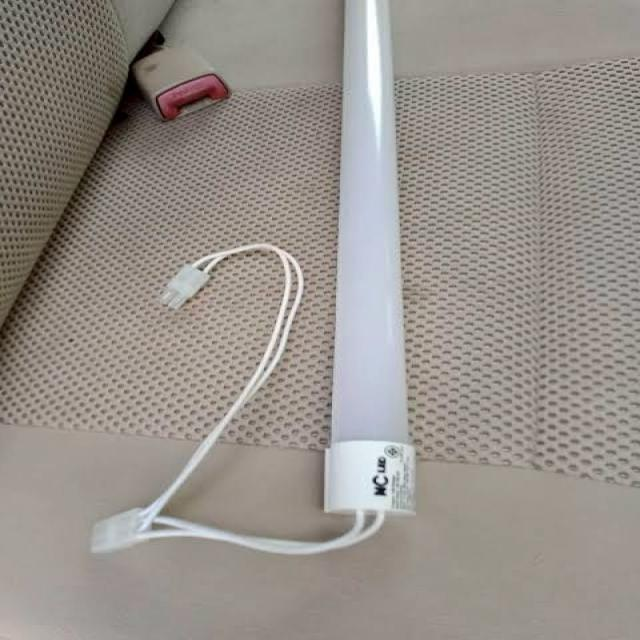bulb: (301, 0, 423, 513)
